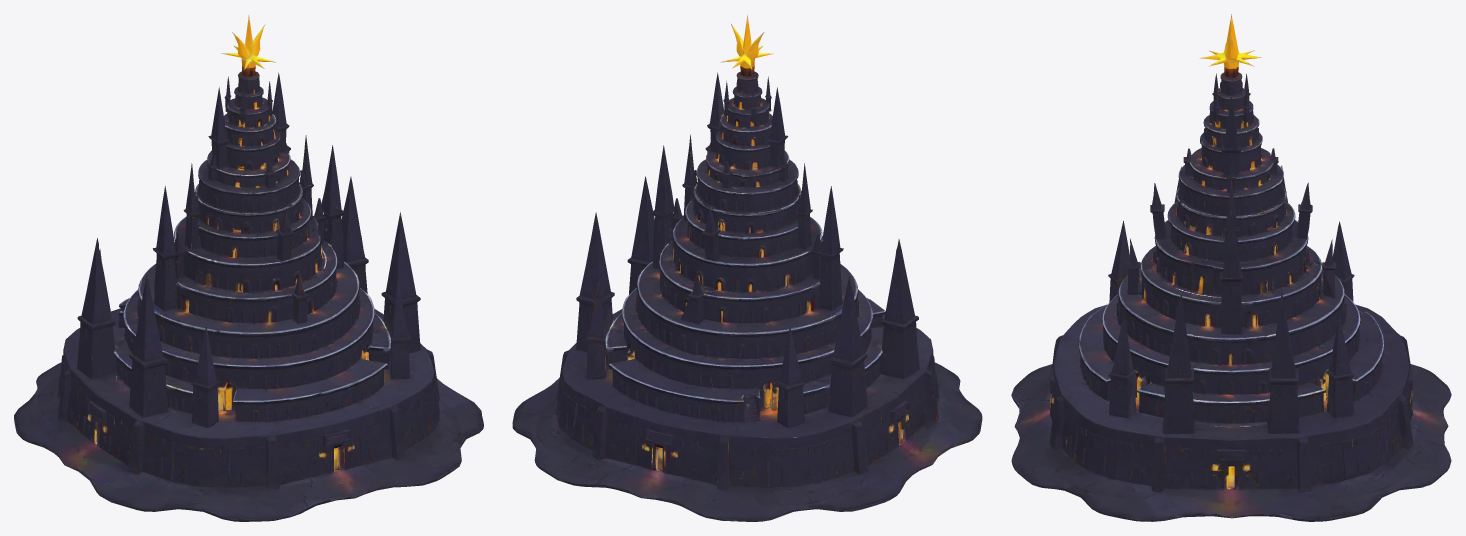
The model's file is volcano-fortress.glb.
3 views of the same model, side by side, from view 1: azimuth 30°, elevation 25°; view 2: azimuth 150°, elevation 25°; view 3: azimuth 270°, elevation 25° (orthographic).
Visible parts, largest first — view 1: Mesh_0; view 2: Mesh_0; view 3: Mesh_0.
Part boxes in pixels (x1,y1,x2,y2): Mesh_0: (14, 15, 483, 521); Mesh_0: (512, 15, 982, 521); Mesh_0: (1011, 14, 1451, 521).
Bounding box in the file's own units: 1.81 × 1.9 × 1.81.
Materials: 1 (1 with a texture image).
